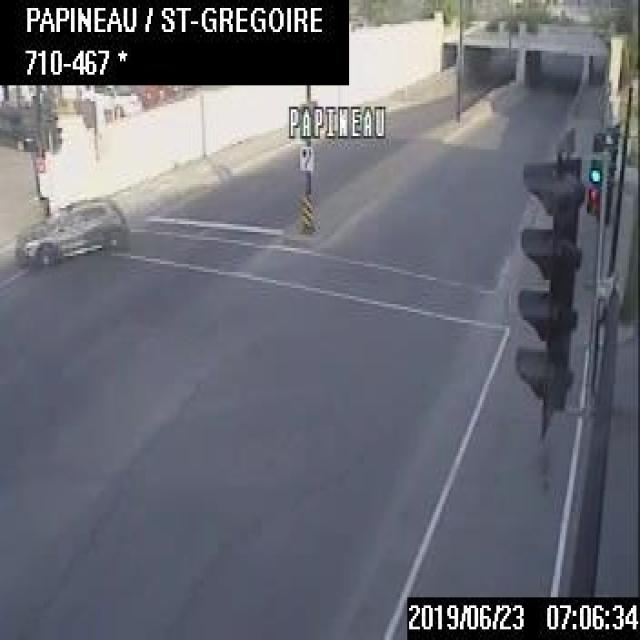vehicle: (11, 192, 127, 266), (0, 99, 35, 149)
